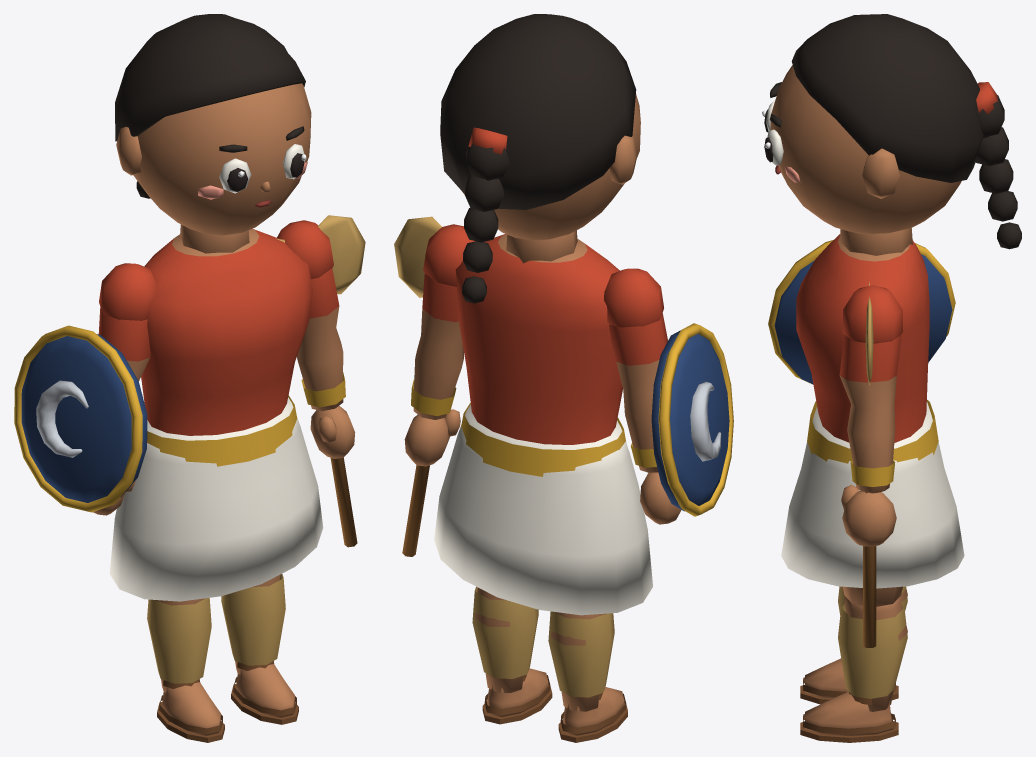
File: amazone.glb
The picture shows the model from 3 angles, left to right: view 1: azimuth 30°, elevation 25°; view 2: azimuth 150°, elevation 25°; view 3: azimuth 270°, elevation 25°; orthographic projection. The views are drawn at different scales.
Parts seen in each view (by area): view 1: rumpf, huefte, kopf, itemL, haare, armR, knieL, knieR, armL, itemR, augeL, augeR; view 2: haare, rumpf, huefte, itemL, armR, armL, knieL, knieR, kopf, itemR; view 3: haare, huefte, rumpf, kopf, armR, knieR, itemL, itemR, knieL, beinR, augeR.
Boxes of the visible parts, bbox=[...] form: rumpf: bbox=[141, 228, 312, 466]; huefte: bbox=[109, 397, 323, 601]; kopf: bbox=[116, 83, 311, 253]; itemL: bbox=[14, 325, 147, 512]; haare: bbox=[115, 14, 305, 198]; armR: bbox=[277, 220, 355, 458]; knieL: bbox=[147, 598, 224, 742]; knieR: bbox=[221, 574, 298, 724]; armL: bbox=[93, 263, 156, 515]; itemR: bbox=[275, 215, 365, 547]; augeL: bbox=[219, 158, 251, 193]; augeR: bbox=[283, 144, 306, 179]; haare: bbox=[440, 14, 636, 303]; rumpf: bbox=[455, 234, 625, 476]; huefte: bbox=[434, 404, 652, 615]; itemL: bbox=[651, 323, 733, 516]; armR: bbox=[404, 224, 475, 466]; armL: bbox=[604, 268, 681, 524]; knieL: bbox=[548, 611, 627, 742]; knieR: bbox=[472, 586, 552, 724]; kopf: bbox=[463, 94, 640, 263]; itemR: bbox=[394, 216, 441, 556]; haare: bbox=[791, 14, 1021, 249]; huefte: bbox=[781, 402, 964, 588]; rumpf: bbox=[796, 234, 938, 463]; kopf: bbox=[770, 65, 961, 255]; armR: bbox=[839, 285, 902, 546]; knieR: bbox=[800, 596, 907, 742]; itemL: bbox=[768, 240, 955, 384]; itemR: bbox=[863, 281, 876, 647]; knieL: bbox=[800, 586, 907, 704]; beinR: bbox=[842, 586, 902, 606]; augeR: bbox=[764, 129, 783, 165].
Bounding box in the file's own units: 1.11 × 2.29 × 0.7797.
